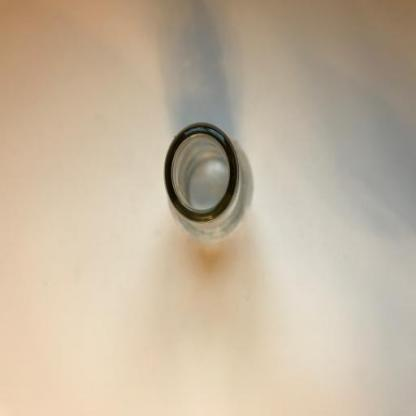trash: (164, 121, 254, 248)
